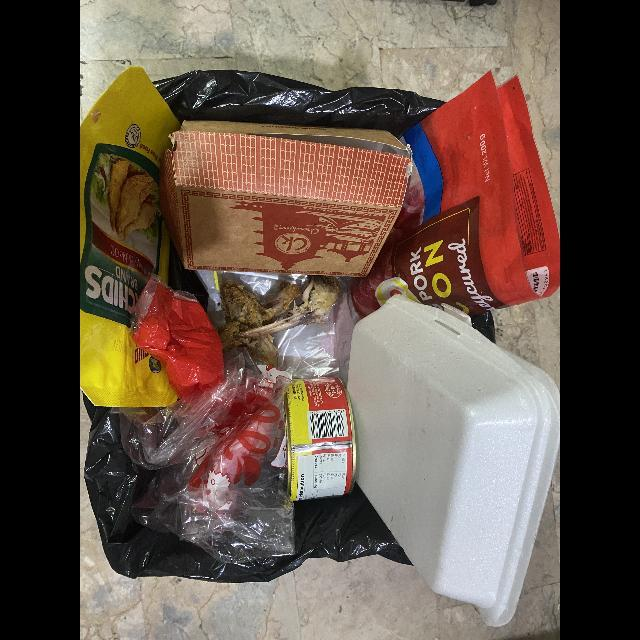biowaste: (220, 274, 340, 369)
metal: (287, 379, 355, 501)
paper: (159, 120, 413, 279)
plastic: (117, 275, 293, 565)
styrofoam: (347, 292, 560, 627)
wrapper: (80, 69, 182, 410)
